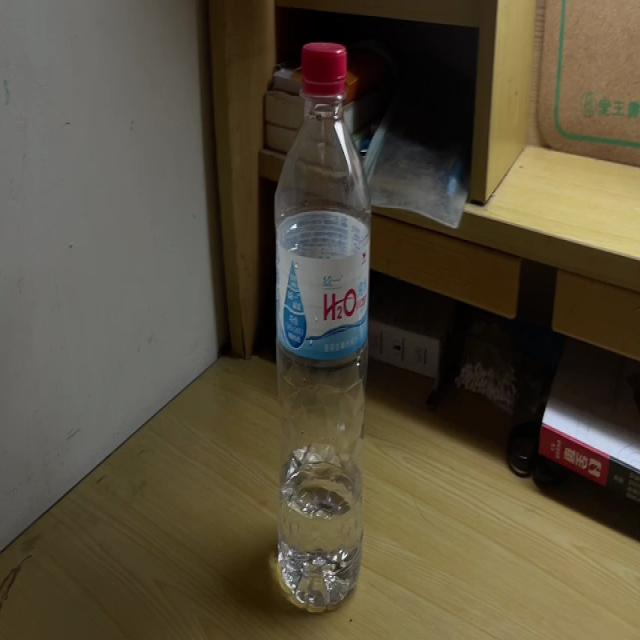Water: (277, 40, 370, 616)
